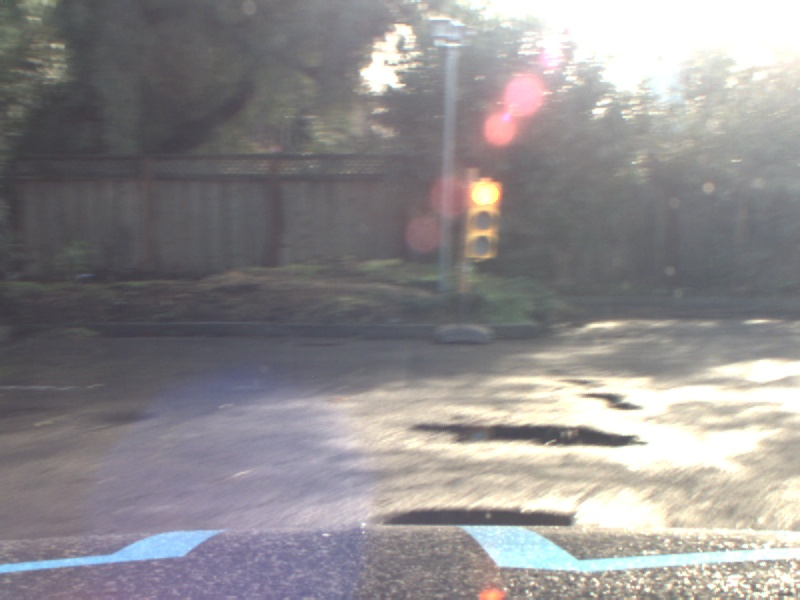Red: (468, 181, 500, 258)
